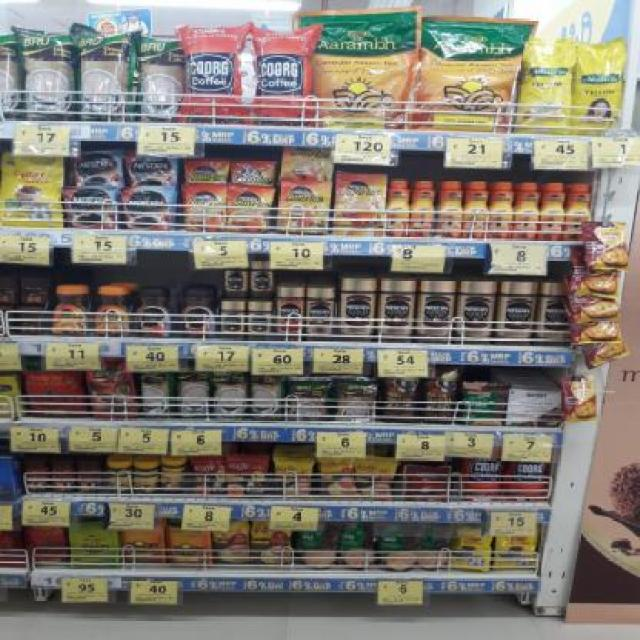Coffee: (334, 175, 383, 236), (278, 181, 331, 234), (459, 281, 495, 345), (342, 278, 376, 342), (502, 282, 536, 346), (380, 280, 414, 342), (67, 187, 115, 230), (540, 284, 572, 348), (124, 187, 171, 230), (420, 281, 452, 344), (184, 186, 228, 231), (51, 286, 89, 336), (134, 287, 171, 338), (180, 288, 217, 338), (229, 187, 271, 231), (282, 145, 333, 181), (94, 285, 129, 337), (74, 152, 124, 188), (128, 151, 177, 187), (307, 288, 335, 340), (464, 180, 488, 238), (412, 180, 436, 237), (542, 183, 566, 240), (568, 183, 592, 240), (491, 181, 514, 239), (516, 182, 539, 240), (439, 180, 461, 237), (388, 179, 409, 236), (250, 260, 273, 298), (222, 301, 244, 339), (248, 302, 270, 340), (224, 268, 247, 297)
